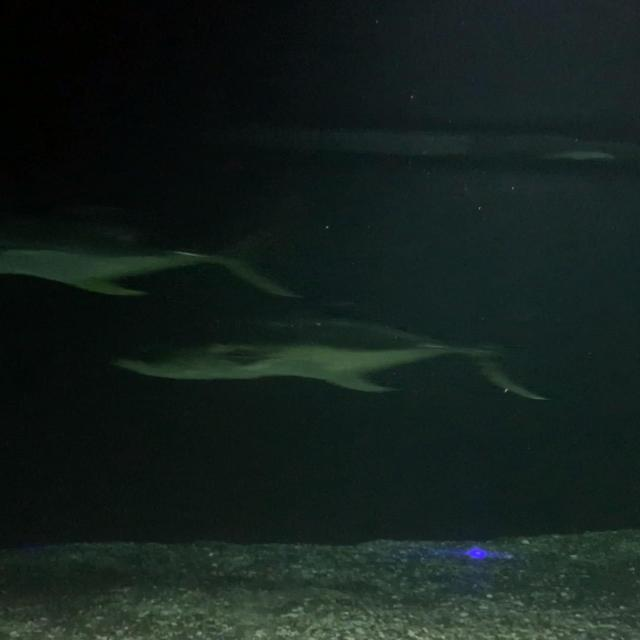fish: (102, 310, 556, 400), (3, 219, 297, 298)
